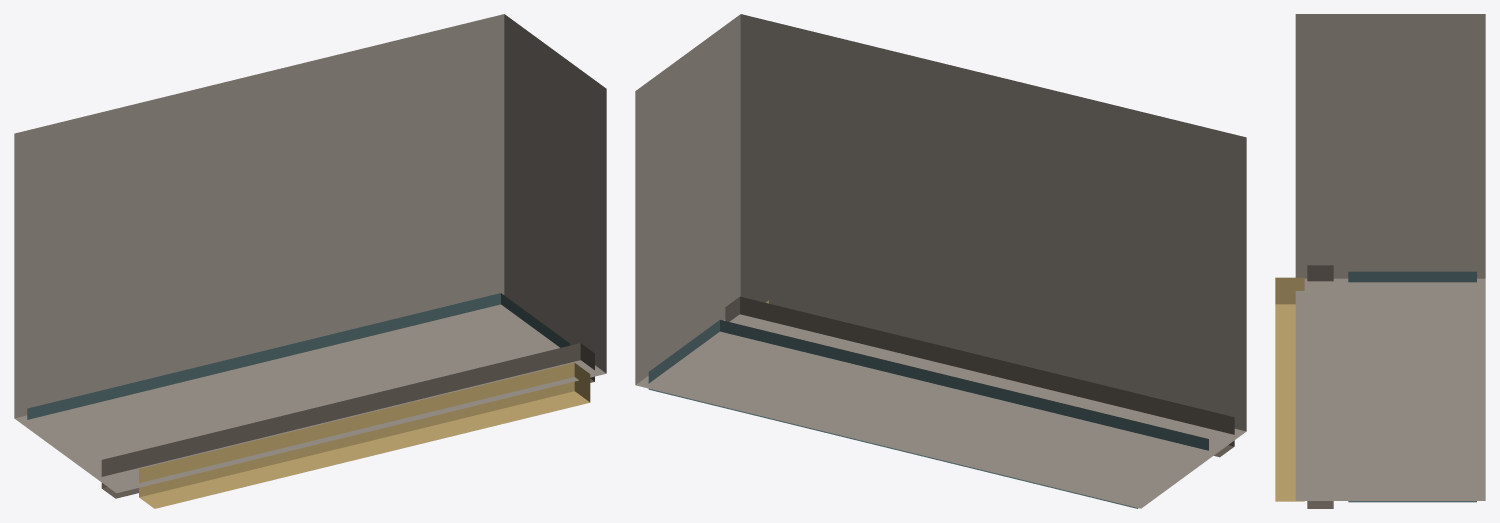
File: storefront.glb
3 views of the same model, side by side, from view 1: azimuth 30°, elevation 25°; view 2: azimuth 150°, elevation 25°; view 3: azimuth 270°, elevation 25° (orthographic). The views are drawn at different scales.
Bounding box in the file's own units: 18 × 10.5 × 7.2.
